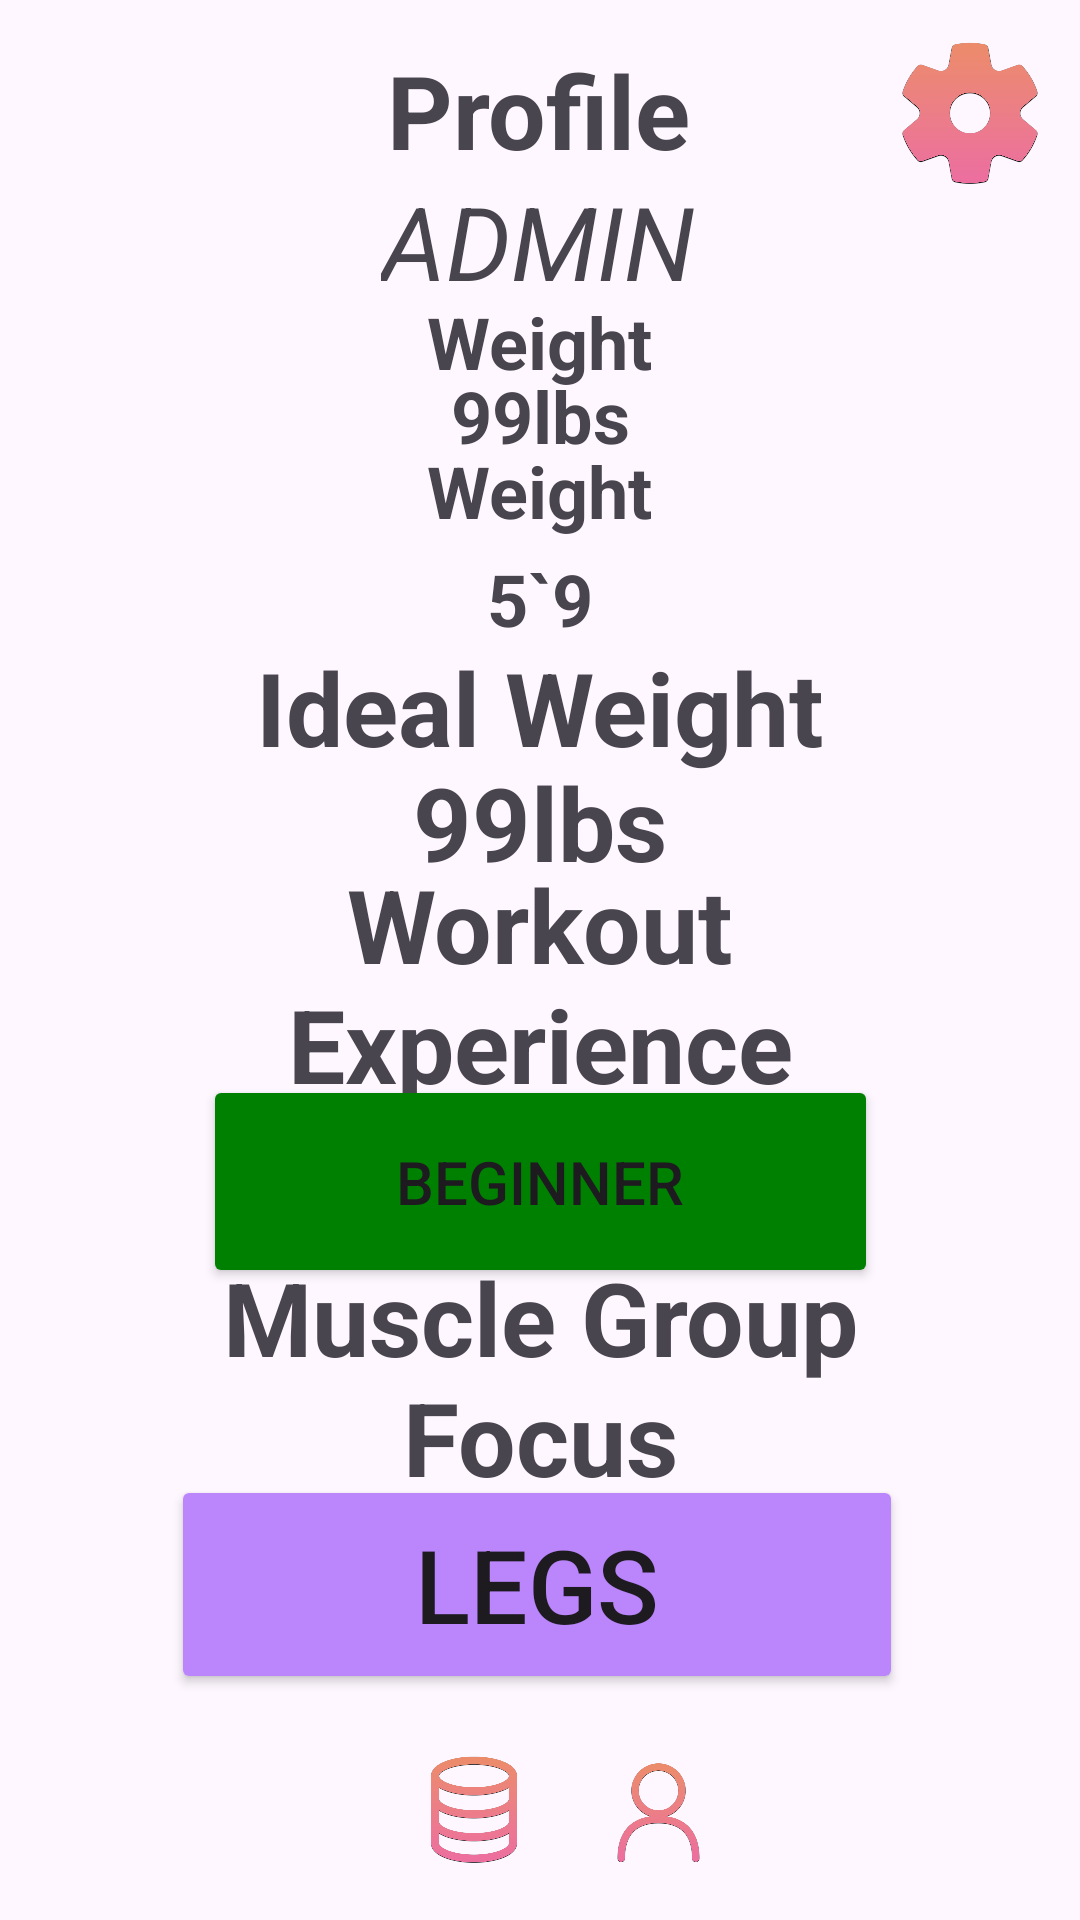

Screen size 1080w x 1920h. Icon name, then its box in pixels as {"left": x1, "top": y1, "right": x2, "bottom": y2}:
database fit data: {"left": 431, "top": 1757, "right": 517, "bottom": 1863}
settings fit data: {"left": 902, "top": 43, "right": 1038, "bottom": 184}
user fit data: {"left": 617, "top": 1763, "right": 700, "bottom": 1862}
